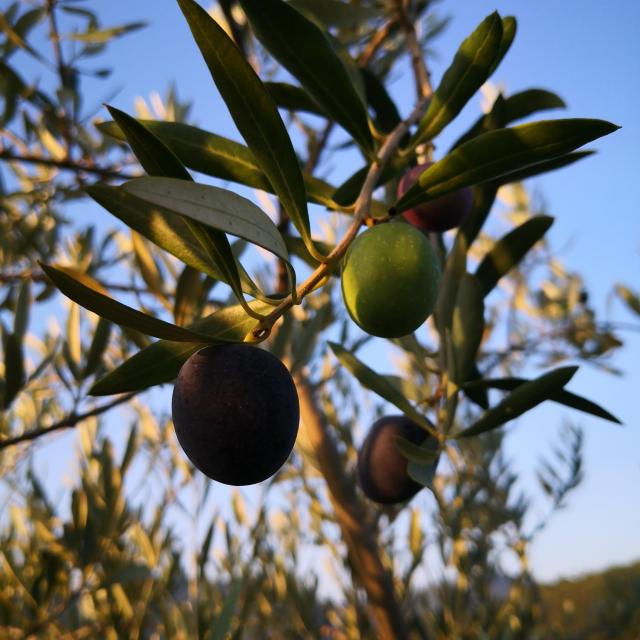Healthy: (172, 345, 300, 486), (341, 222, 441, 338)
